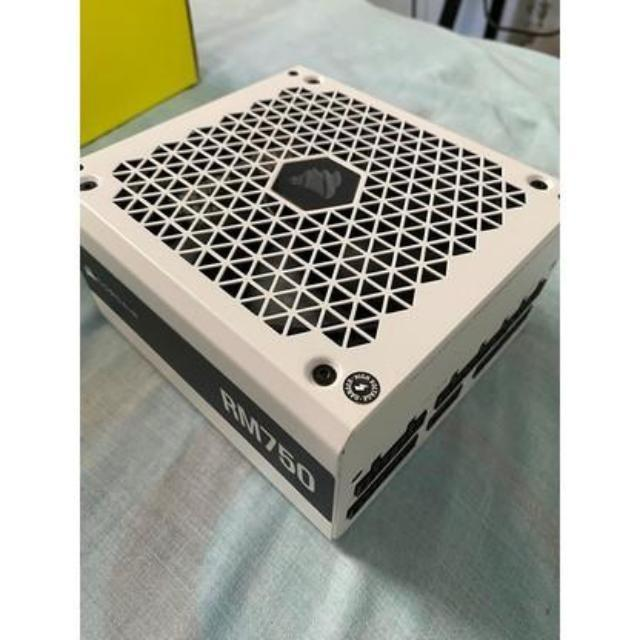PSU: (80, 62, 558, 544)
